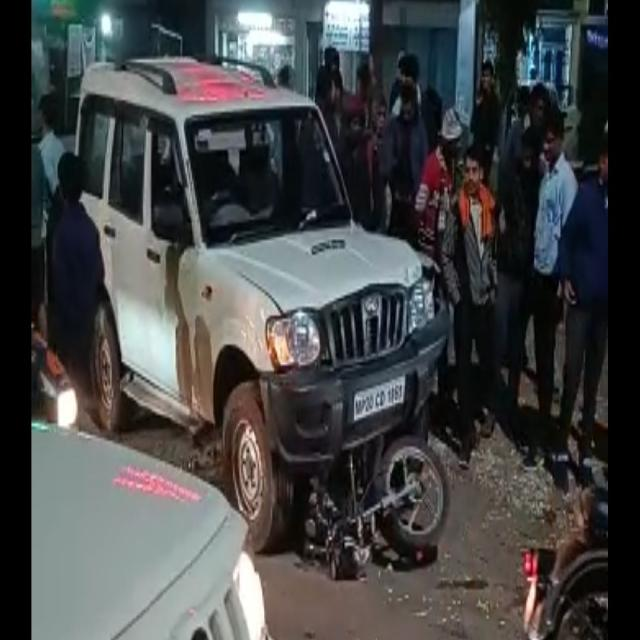accident: (305, 435, 448, 577)
car: (79, 58, 446, 548)
